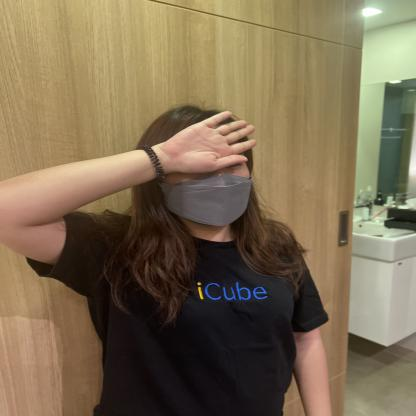Sick: (72, 108, 386, 180)
